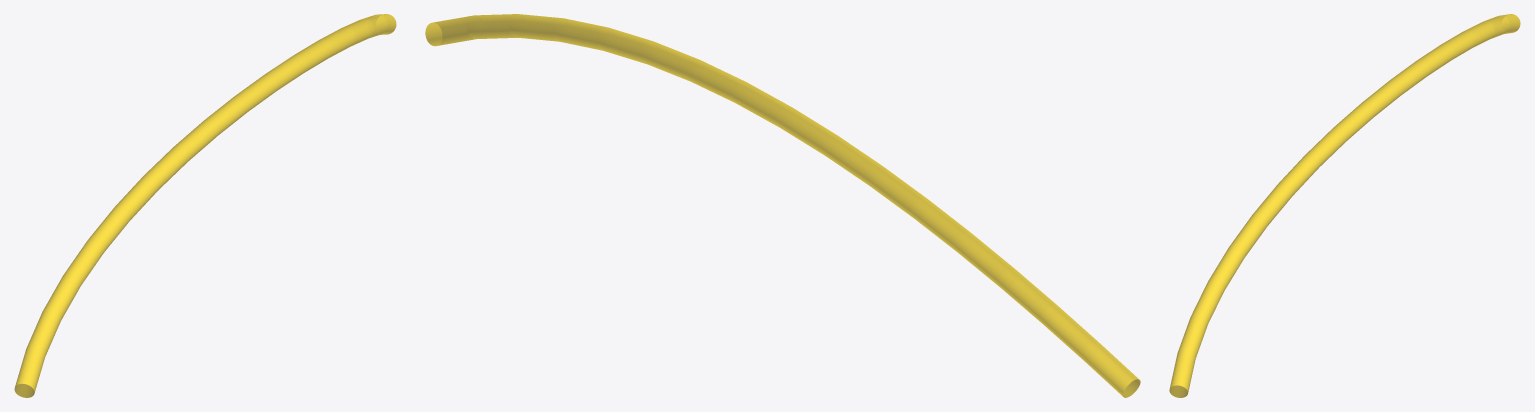
File: Event_75125125_track_94.fbx
The picture shows the model from 3 angles, left to right: view 1: azimuth 90°, elevation 25°; view 2: azimuth 150°, elevation 25°; view 3: azimuth 270°, elevation 25°; orthographic projection. The views are drawn at different scales.
Visible parts, largest first — view 1: Model; view 2: Model; view 3: Model.
Part boxes in pixels (left/top/right/bottom): Model: left=14, top=14, right=396, bottom=397; Model: left=425, top=14, right=1140, bottom=397; Model: left=1169, top=14, right=1520, bottom=397.
Size of the model in its own units: 1.77 by 0.226 by 0.7377.
